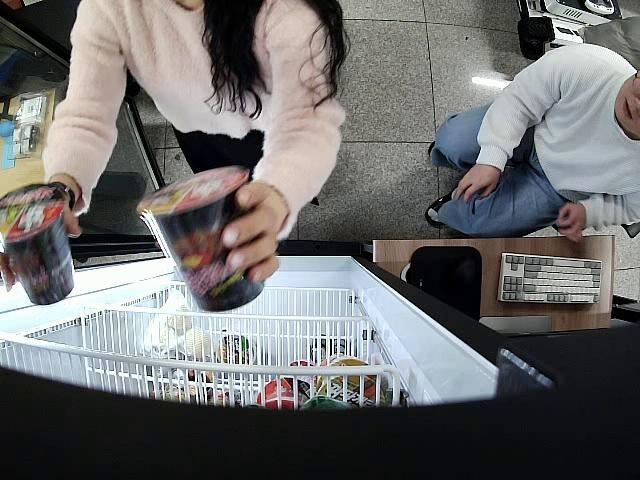08_buldak_S: (136, 164, 264, 311), (0, 182, 77, 306)
